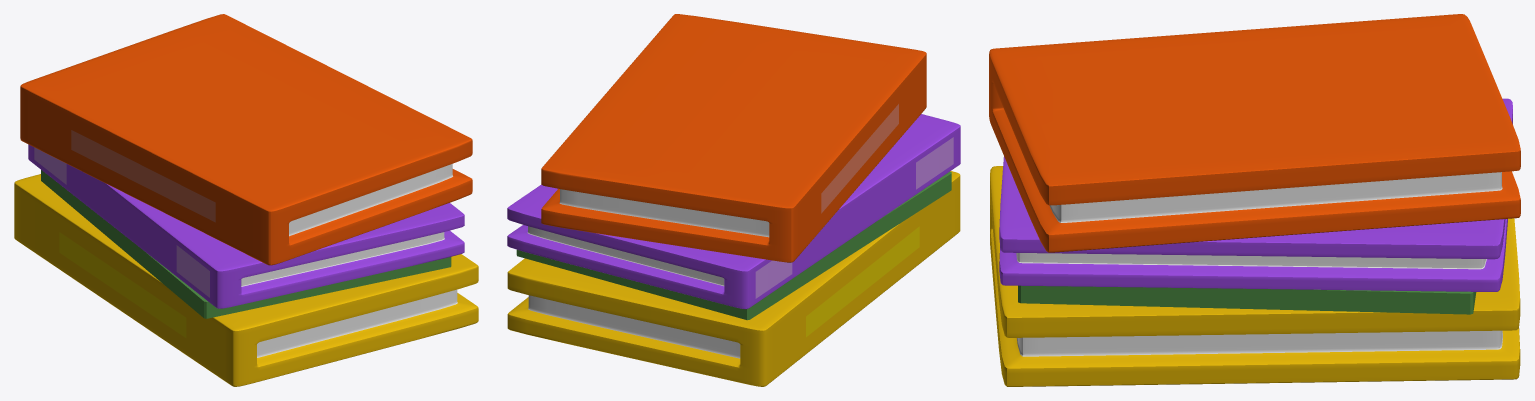
The model's file is Book Set.fbx.
The picture shows the model from 3 angles, left to right: view 1: azimuth 30°, elevation 25°; view 2: azimuth 150°, elevation 25°; view 3: azimuth 270°, elevation 25°; orthographic projection. The views are drawn at different scales.
Visible parts, largest first — view 1: Cube.009; view 2: Cube.009; view 3: Cube.009.
Boxes of the visible parts, x1,y1,x2,y2 form: Cube.009: (14,14,478,386); Cube.009: (507,14,960,386); Cube.009: (989,14,1520,386).
Size of the model in its own units: 46.35 by 26.33 by 60.55.
